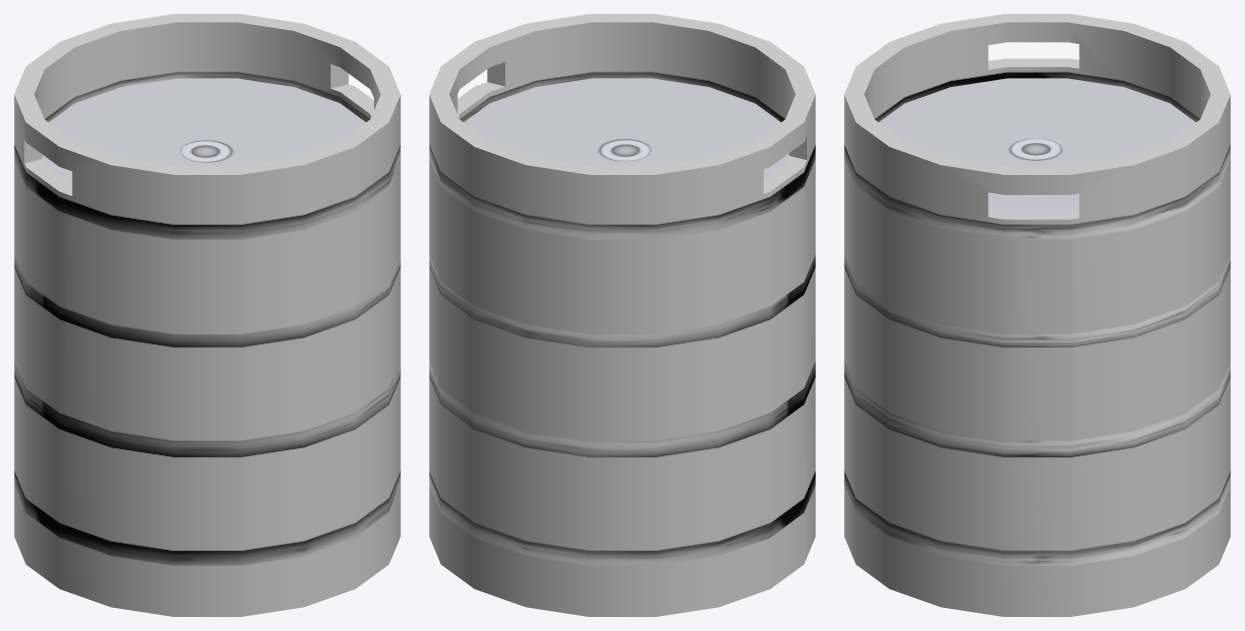
File: keg02.FBX
The picture shows the model from 3 angles, left to right: view 1: azimuth 30°, elevation 25°; view 2: azimuth 150°, elevation 25°; view 3: azimuth 270°, elevation 25°; orthographic projection.
Parts seen in each view (by area): view 1: Rectangle001; view 2: Rectangle001; view 3: Rectangle001.
Part boxes in pixels (left/top/right/bottom): Rectangle001: left=14, top=14, right=400, bottom=616; Rectangle001: left=429, top=14, right=815, bottom=616; Rectangle001: left=844, top=14, right=1230, bottom=616.
Size of the model in its own units: 65.74 by 66.76 by 84.27.
Materials: 3 (3 with a texture image).
